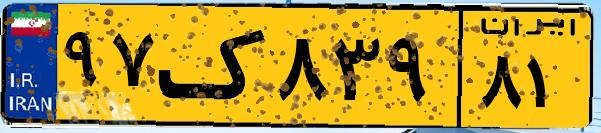1: (525, 38, 570, 115)
3: (330, 28, 385, 110)
7: (110, 28, 158, 98)
8: (270, 28, 330, 110), (475, 38, 525, 113)
9: (385, 28, 445, 110), (57, 26, 110, 100)
ک: (158, 12, 270, 120)
